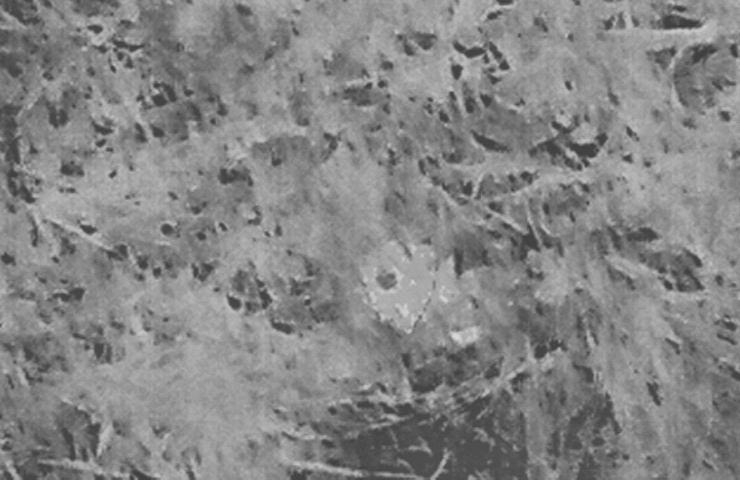landmines: (360, 232, 495, 354)
